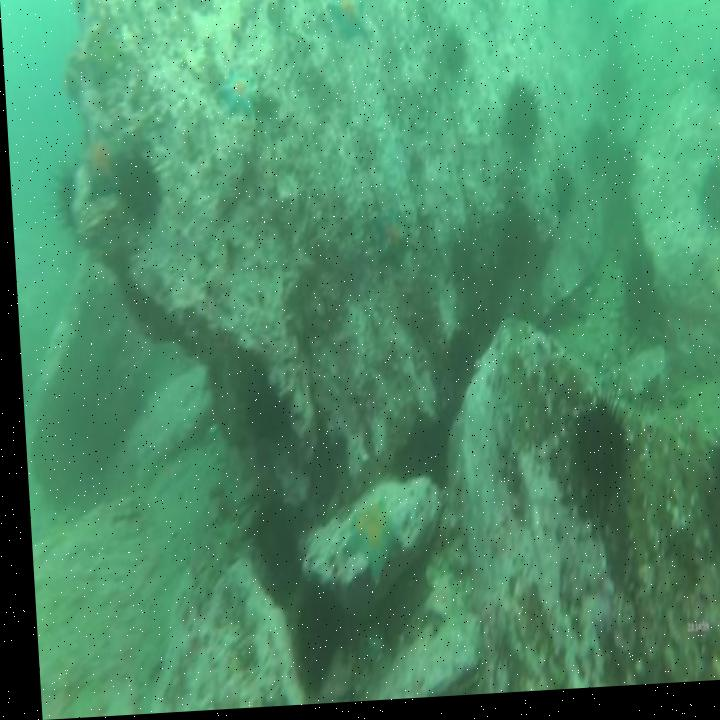echinus: (556, 390, 629, 517), (283, 590, 338, 698), (243, 489, 292, 591), (691, 418, 720, 571), (114, 146, 165, 228), (232, 361, 279, 449), (613, 253, 658, 342), (500, 78, 543, 162), (492, 204, 532, 289), (43, 155, 77, 236), (298, 433, 333, 511), (575, 116, 611, 191), (692, 164, 720, 251), (441, 326, 472, 396)
starfish: (338, 504, 396, 597), (76, 137, 124, 203), (216, 66, 259, 127), (325, 0, 373, 54), (370, 208, 410, 271)
